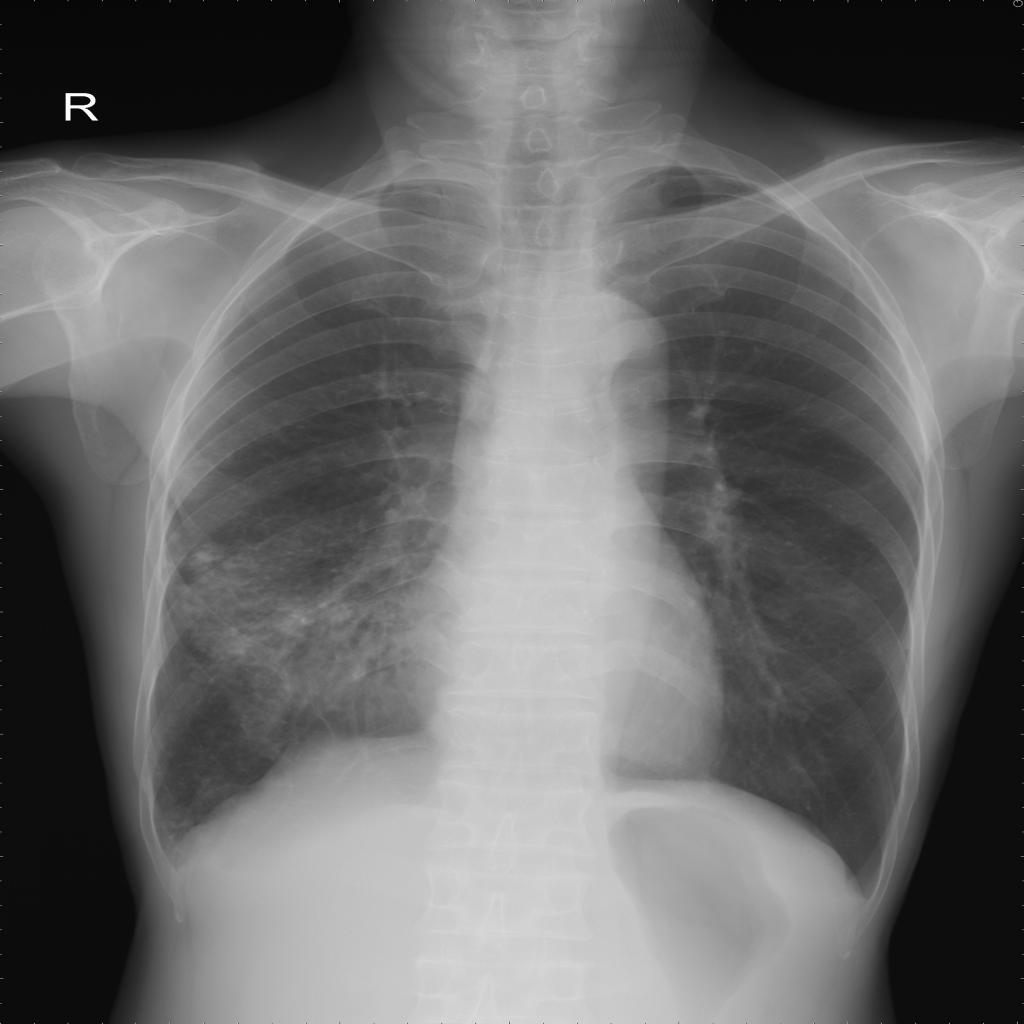Nodule: (271, 597, 318, 638), (758, 587, 806, 622)
